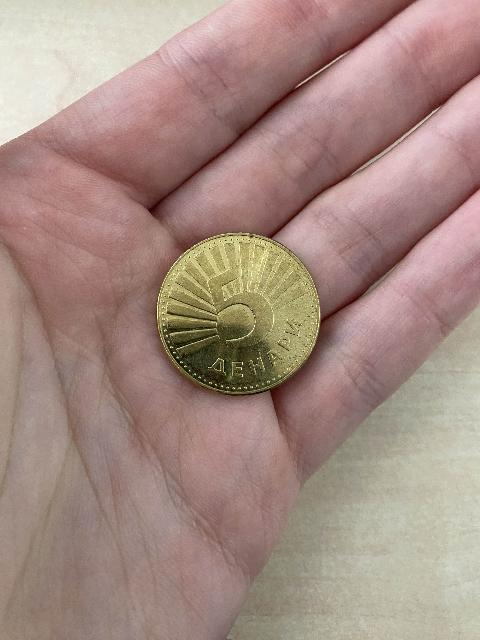5_coin: (157, 234, 320, 394)
